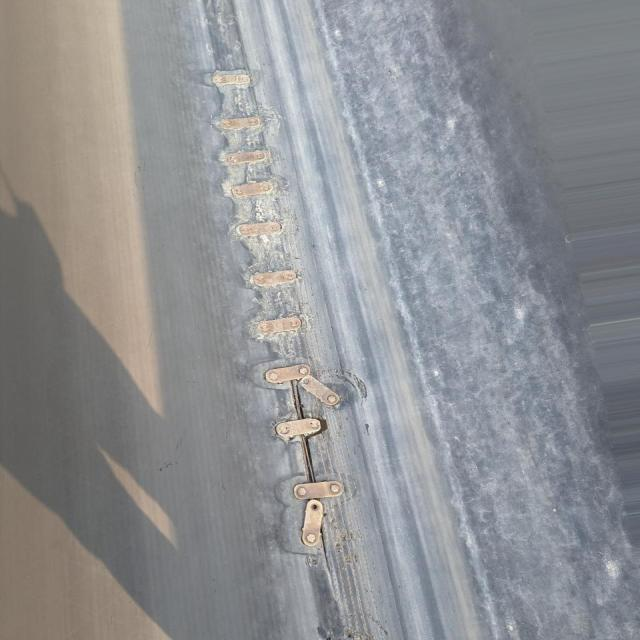patch work: (187, 59, 372, 574)
